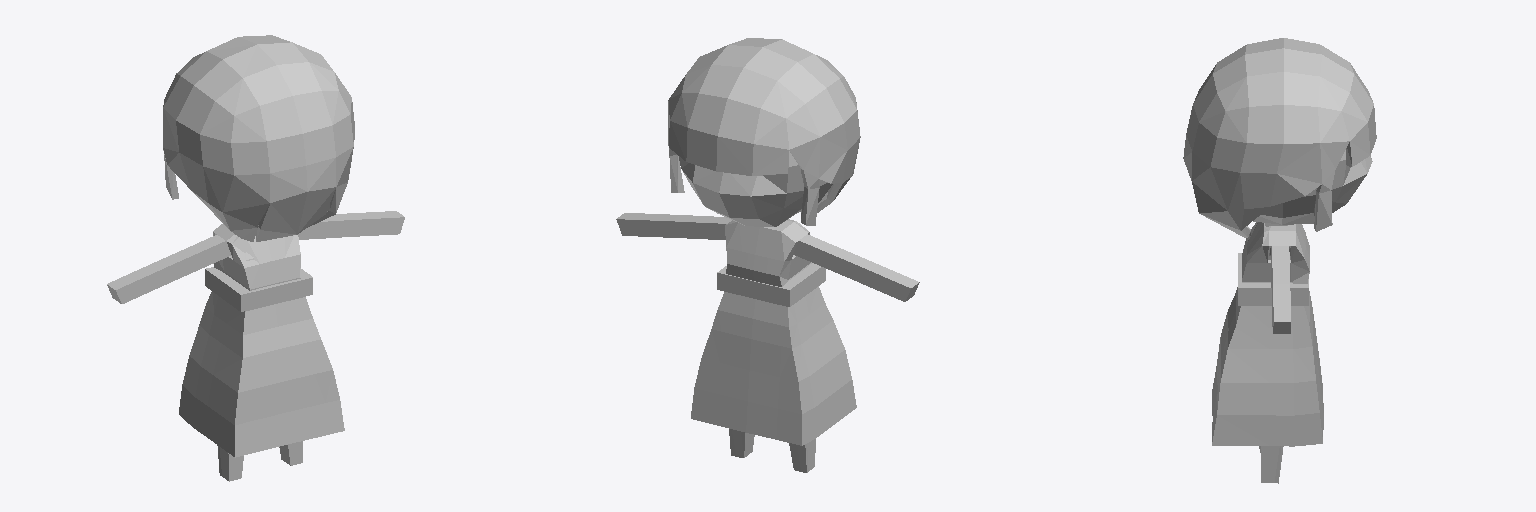
Rendered from player.obj.
3 views of the same model, side by side, from view 1: azimuth 30°, elevation 25°; view 2: azimuth 150°, elevation 25°; view 3: azimuth 270°, elevation 25° (orthographic).
Parts seen in each view (by area): view 1: 髪, 服, 体, 腰巻き; view 2: 髪, 服, 体, 頭, 腰巻き; view 3: 髪, 服, 頭, 体, 腰巻き.
Part boxes in pixels (x1,y1,x2,y2): 髪: (163, 35, 354, 241); 服: (179, 224, 344, 457); 体: (107, 211, 404, 481); 腰巻き: (205, 267, 312, 311); 髪: (668, 38, 860, 225); 服: (691, 219, 856, 445); 体: (616, 213, 919, 472); 頭: (679, 151, 832, 226); 腰巻き: (717, 263, 825, 306); 髪: (1183, 38, 1376, 237); 服: (1212, 222, 1323, 446); 頭: (1253, 150, 1372, 224); 体: (1250, 228, 1290, 483); 腰巻き: (1238, 253, 1308, 305).
Bounding box in the file's own units: 3.2 × 4.37 × 1.83.